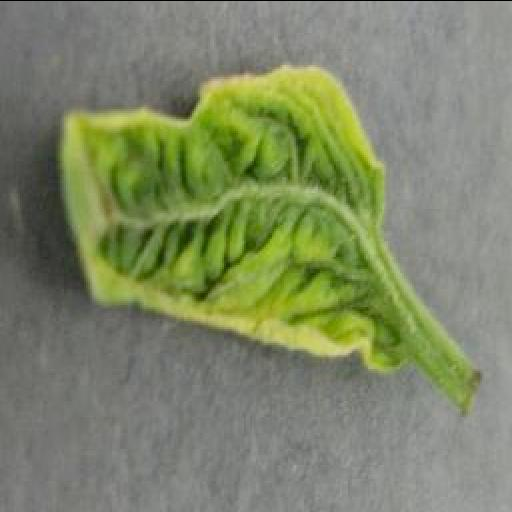disease_tomato: (59, 61, 401, 374)
